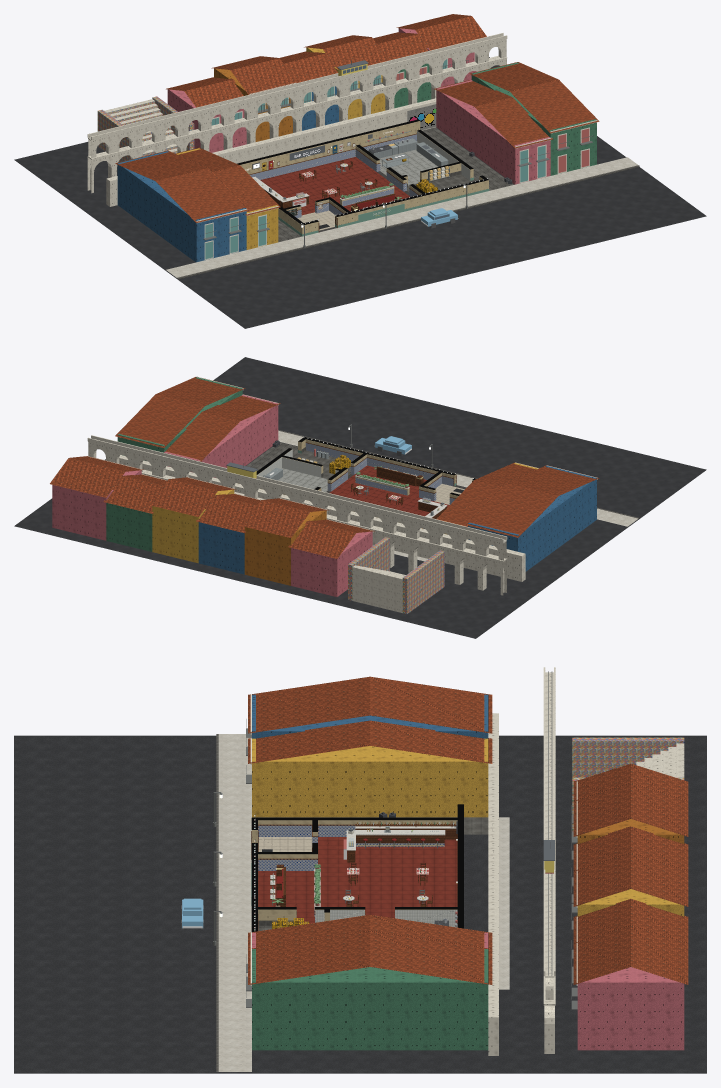
File: lapa.glb
The picture shows the model from 3 angles, top to bottom: view 1: azimuth 30°, elevation 25°; view 2: azimuth 150°, elevation 25°; view 3: azimuth 270°, elevation 25°; orthographic projection. The views are drawn at different scales.
Visible parts, largest first — view 1: Lapa_asphalt, Lapa_arcos, Lapa_side_roof, Lapa_roof, Lapa_side_facade_blue, Lapa_pedra, Lapa_whitewash, Lapa_side_facade_pink, Lapa_plaster, Lapa_vermelhao, Lapa_concrete, Lapa_azulejo (+19 smaller); view 2: Lapa_asphalt, Lapa_side_roof, Lapa_roof, Lapa_arcos, Lapa_facade_pink, Lapa_whitewash, Lapa_side_facade_blue, Lapa_side_facade_pink, Lapa_mosaic, Lapa_ochre, Lapa_facade_yellow, Lapa_facade_blue (+11 smaller); view 3: Lapa_asphalt, Lapa_side_roof, Lapa_roof, Lapa_side_facade_green, Lapa_side_facade_yellow, Lapa_pedra, Lapa_vermelhao, Lapa_facade_pink, Lapa_arcos, Lapa_whitewash, Lapa_mosaic, Lapa_cap (+12 smaller).
Part boxes in pixels (x1,y1,x2,y2): Lapa_asphalt: (14,57,706,328); Lapa_arcos: (87,33,507,193); Lapa_side_roof: (115,62,599,222); Lapa_roof: (166,14,486,107); Lapa_side_facade_blue: (117,151,246,262); Lapa_pedra: (166,157,638,277); Lapa_whitewash: (104,98,436,206); Lapa_side_facade_pink: (436,80,550,184); Lapa_plaster: (240,121,488,234); Lapa_vermelhao: (260,157,409,215); Lapa_concrete: (177,127,639,279); Lapa_azulejo: (250,134,418,218); Lapa_asphalt: (14,357,706,638); Lapa_side_roof: (115,376,599,537); Lapa_roof: (50,456,374,558); Lapa_arcos: (87,435,507,595); Lapa_facade_pink: (52,470,372,596); Lapa_whitewash: (119,455,525,612); Lapa_side_facade_blue: (468,466,596,571); Lapa_side_facade_pink: (164,395,278,478); Lapa_mosaic: (348,537,444,613); Lapa_ochre: (244,510,326,585); Lapa_facade_yellow: (152,489,234,563); Lapa_facade_blue: (198,522,244,574); Lapa_asphalt: (14,735,706,1073); Lapa_side_roof: (248,676,492,984); Lapa_roof: (573,763,688,984); Lapa_side_facade_green: (252,949,488,1050); Lapa_side_facade_yellow: (252,738,488,817); Lapa_pedra: (218,734,509,1071); Lapa_vermelhao: (258,837,457,923); Lapa_facade_pink: (577,967,684,1050); Lapa_arcos: (543,667,555,1053); Lapa_whitewash: (488,713,684,1055); Lapa_mosaic: (572,737,684,831); Lapa_cap: (251,804,463,931).
Size of the model in its own units: 60 by 8.46 by 52.
72 materials, 34 textured.
